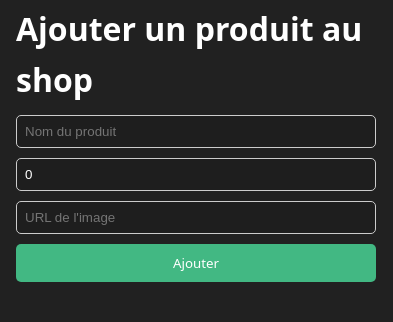
it: ProductForm.vue › Display validation error if name is empty
The width and height of the screenshot is (393, 322).
Replace the text in the number field with test id "product-price" with "10" at (196, 175), box [16,158,376,191]
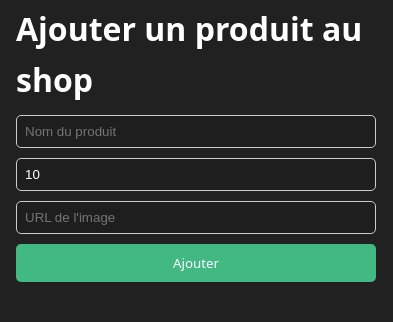
Type "/images/test.jpg" into the field with test id "product-image" at (196, 218), box [16,201,376,234]
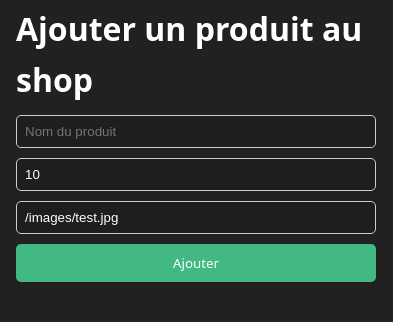
Submit the form, box [16,115,376,282]
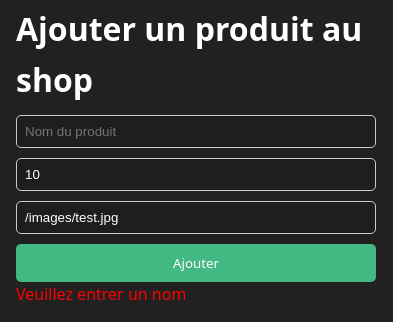
Result: the text "Veuillez entrer un nom" is shown at [16,283,186,305]
